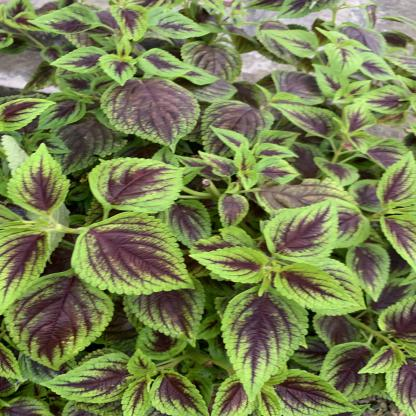Bunga Coleus: (9, 11, 412, 396)
